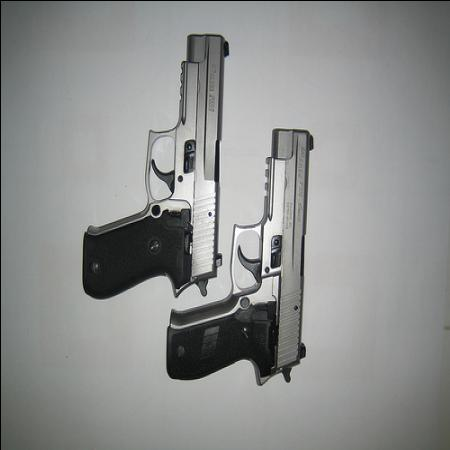Pistol: (82, 35, 230, 300), (166, 129, 316, 388)
